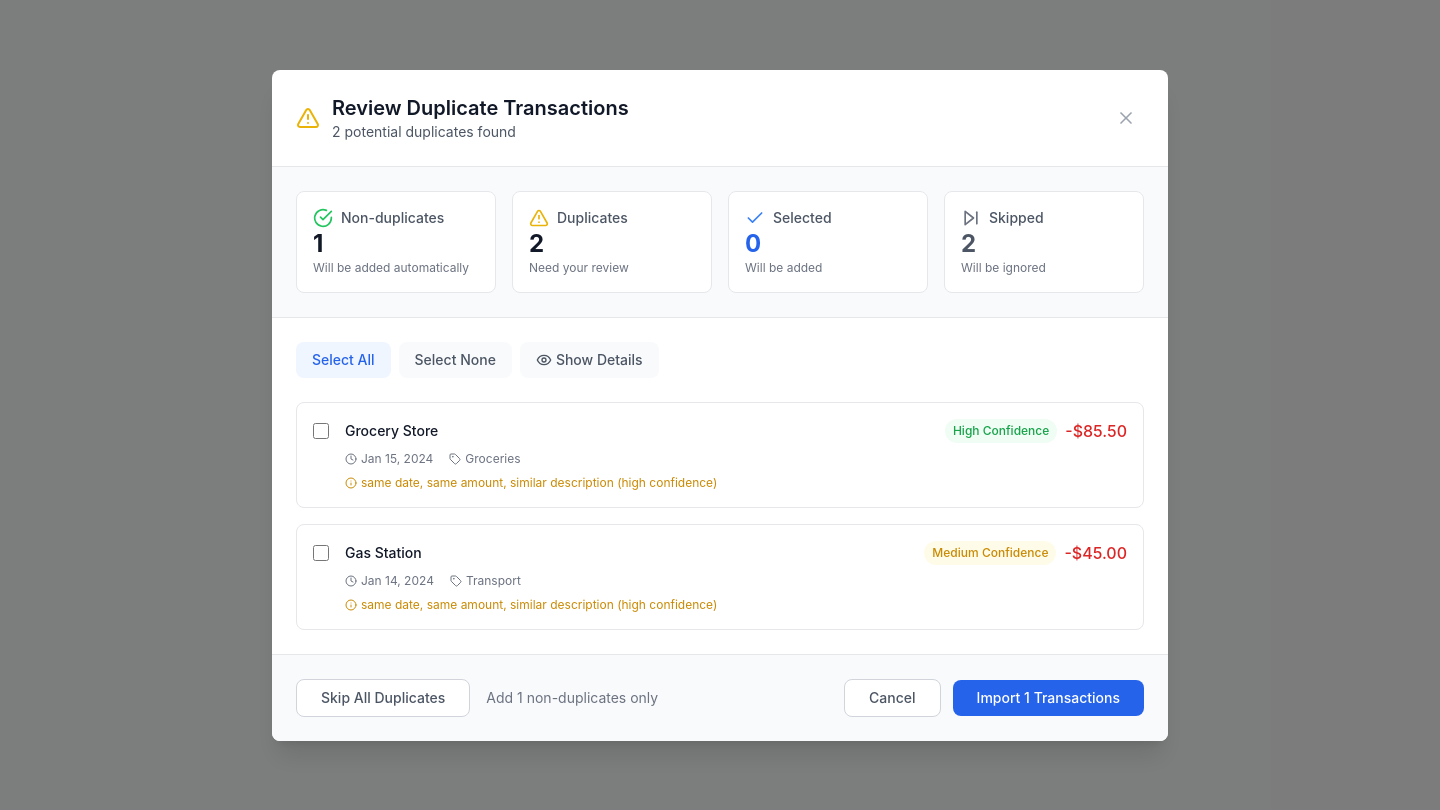
Test: DuplicateReviewModal › allows selecting all duplicates
Click the button "Select All" at (343, 360), box [296,342,391,378]
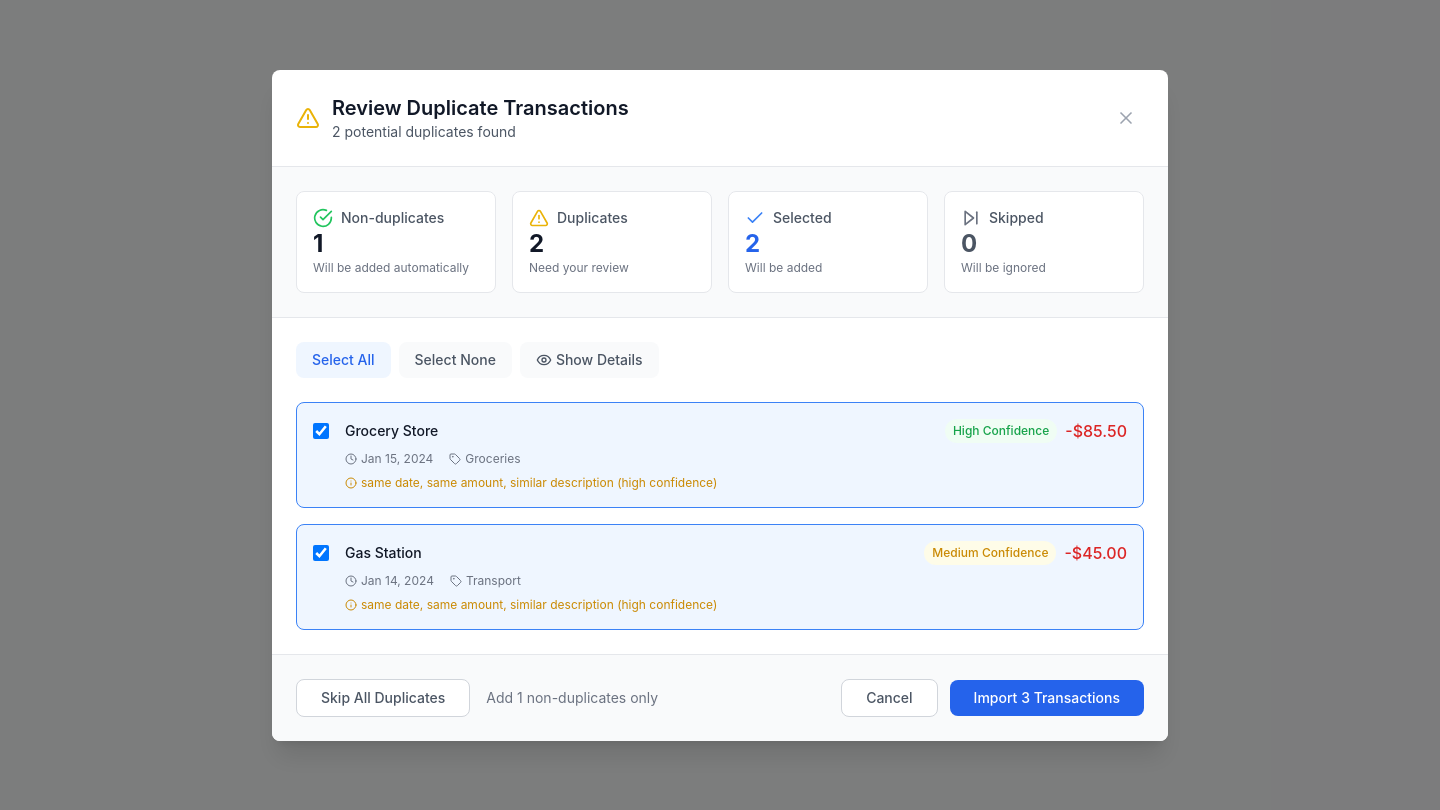
expect the checkbox next to "Grocery Store" is checked: met, box [313,422,329,438]
expect the checkbox next to "Gas Station" is checked: met, box [313,544,329,560]
